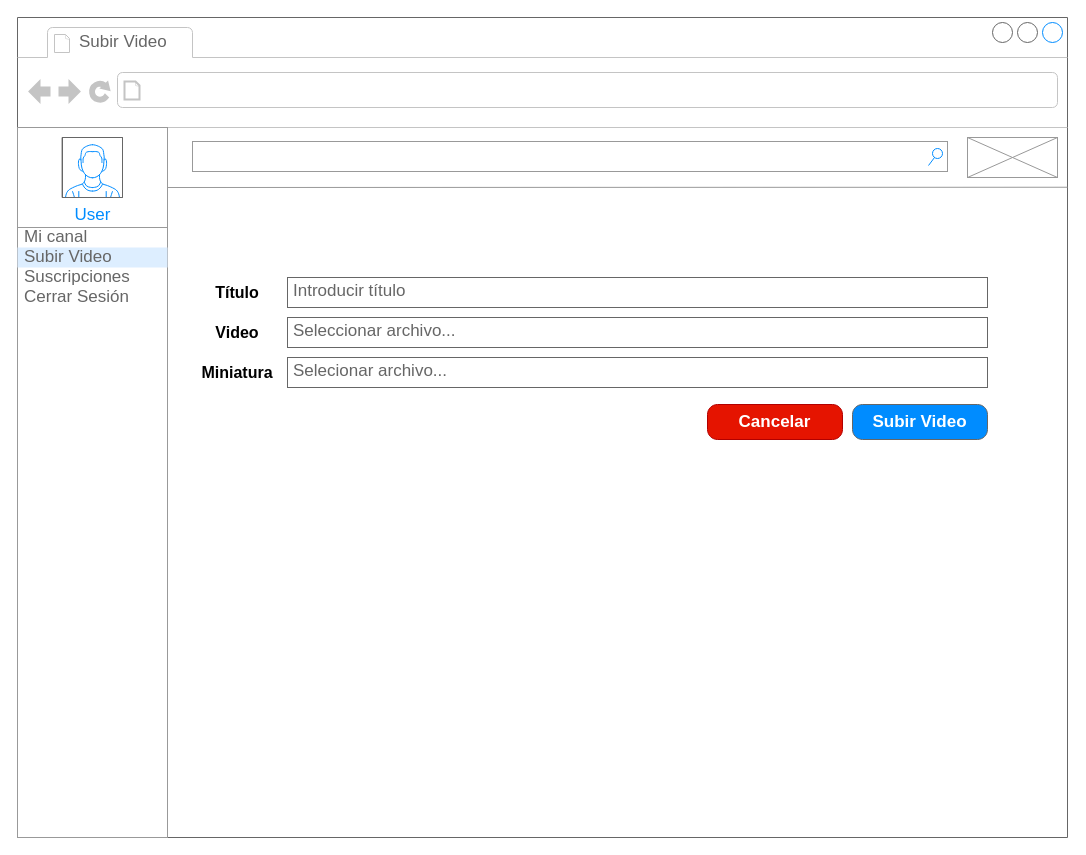
Some shapes in this 1086 by 855 pixel diagram are drawn without their labels. Each missing label, with the box of its shape:
https://www.tube.com: (146, 76, 398, 104)
Logo: (966, 136, 1058, 178)
Search: (192, 140, 948, 172)
